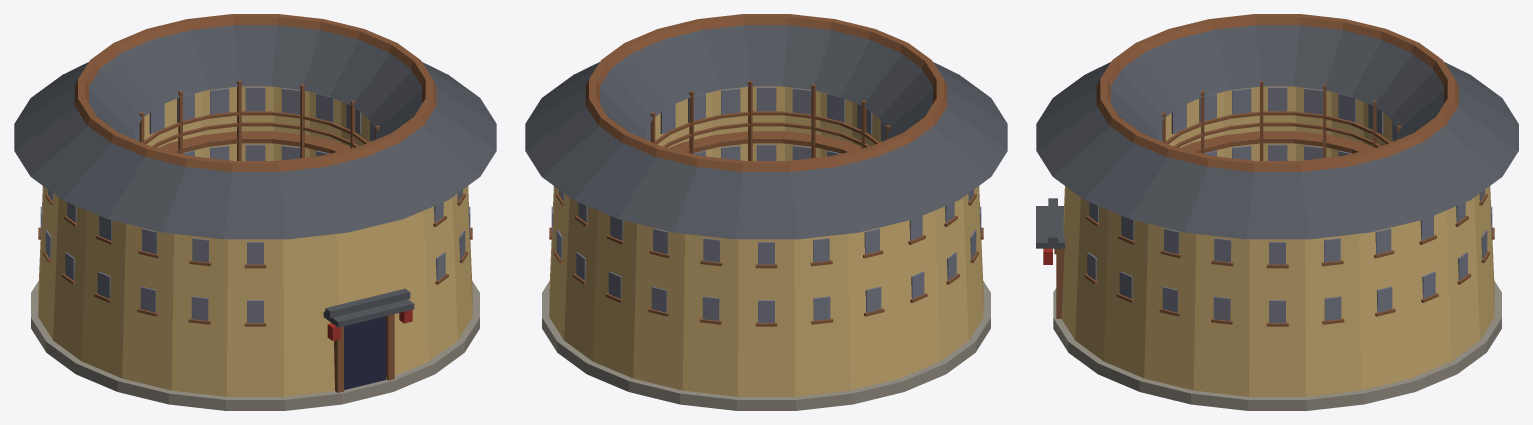
The model's file is house-2x2-3f-tulou-a.glb.
3 renders of one model, left to right at view 1: azimuth 30°, elevation 25°; view 2: azimuth 150°, elevation 25°; view 3: azimuth 270°, elevation 25°, orthographic.
Parts seen in each view (by area): view 1: house-2x2-3f-tulou-a; view 2: house-2x2-3f-tulou-a; view 3: house-2x2-3f-tulou-a.
Boxes of the visible parts, x1,y1,x2,y2 form: house-2x2-3f-tulou-a: [14, 14, 496, 410]; house-2x2-3f-tulou-a: [525, 14, 1007, 410]; house-2x2-3f-tulou-a: [1036, 14, 1518, 410].
Size of the model in its own units: 1.98 by 1.03 by 1.98.
Materials: 1 (1 with a texture image).
